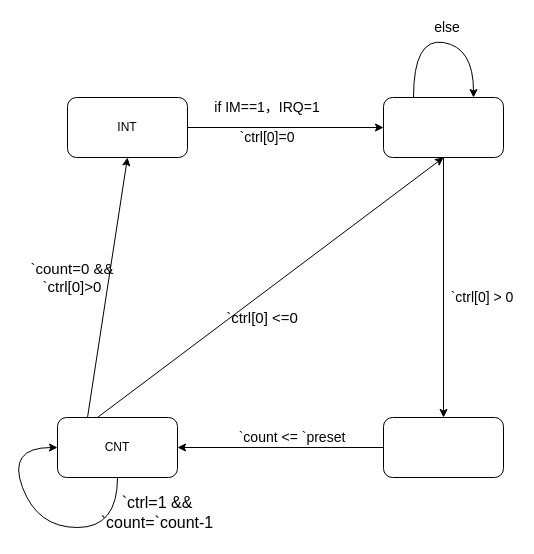
The diagram is 534 pixels wide and 554 high, and some of its shapes have lost their labels. Here are the shapes that lost their labels. From the top down, the box of each, then its label:
(382, 96, 504, 158): IDLE
(382, 416, 504, 478): LOAD
